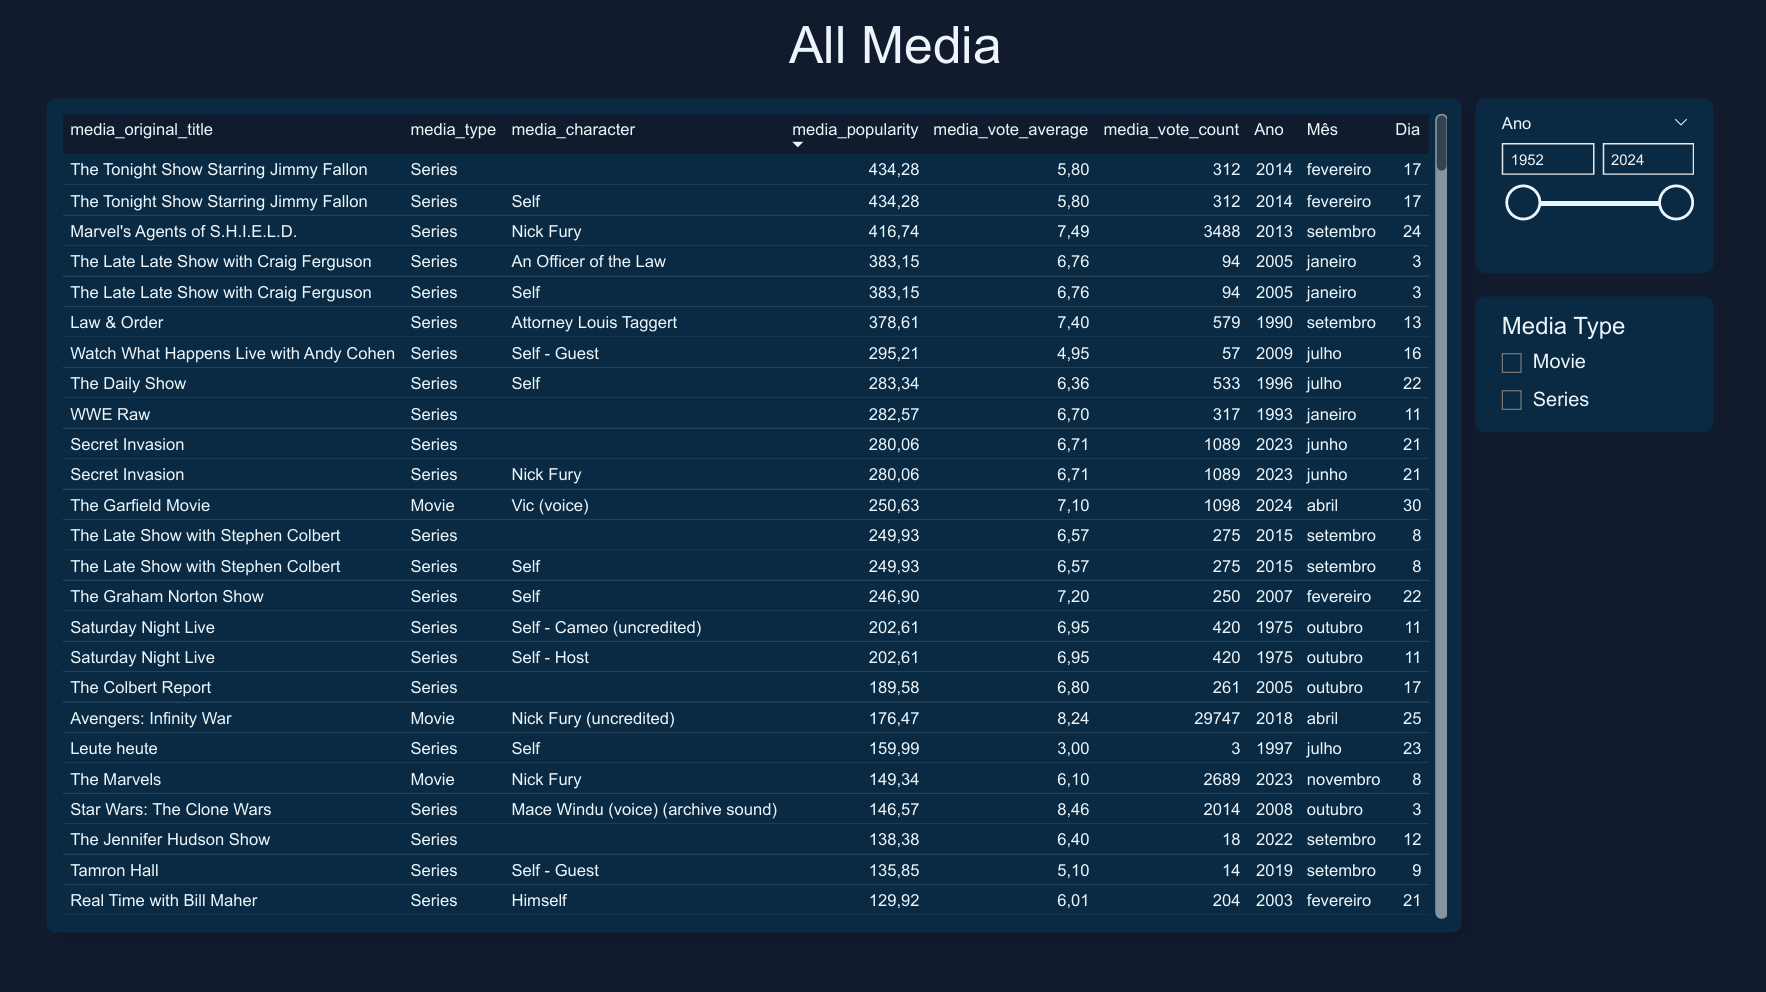

Layout of this report page (visuals, bound fields, positions):
{"tool":"powerbi","page":{"name":"All Media","canvas":[1280,720],"ordinal":0},"visuals":[{"type":"tableEx","fields":{"Values":["dim_media parquet.media_original_title","dim_media parquet.media_type","dim_media parquet.media_character","samuel_fact_media_participation parquet.media_popularity","samuel_fact_media_participation parquet.media_vote_average","samuel_fact_media_participation parquet.media_vote_count","dim_date parquet.date.Variation.Hierarquia de datas.Ano","dim_date parquet.date.Variation.Hierarquia de datas.Mês","dim_date parquet.date.Variation.Hierarquia de datas.Dia"]},"box":[35,72,1023.2,603],"z":0},{"type":"textbox","box":[142,11.7,1012.5,69.1],"z":1000},{"type":"slicer","fields":{"Values":["dim_date parquet.date.Variation.Hierarquia de datas.Ano"]},"box":[1068,72,172.2,126.4],"z":2000},{"type":"slicer","fields":{"Values":["dim_media parquet.media_type"]},"box":[1068,215,172.2,98.2],"z":2001}]}

Visuals, with their boxes in screenshot pixels (x1, y1, x2, y2), scaled from the page's 1280x720 canvas onto the 1766x992 screenshot:
tableEx - dim_media parquet.media_original_title x dim_media parquet.media_type: select_region(48, 99, 1460, 930)
textbox: select_region(196, 16, 1593, 111)
slicer - dim_date parquet.date.Variation.Hierarquia de datas.Ano: select_region(1474, 99, 1711, 273)
slicer - dim_media parquet.media_type: select_region(1474, 296, 1711, 432)
